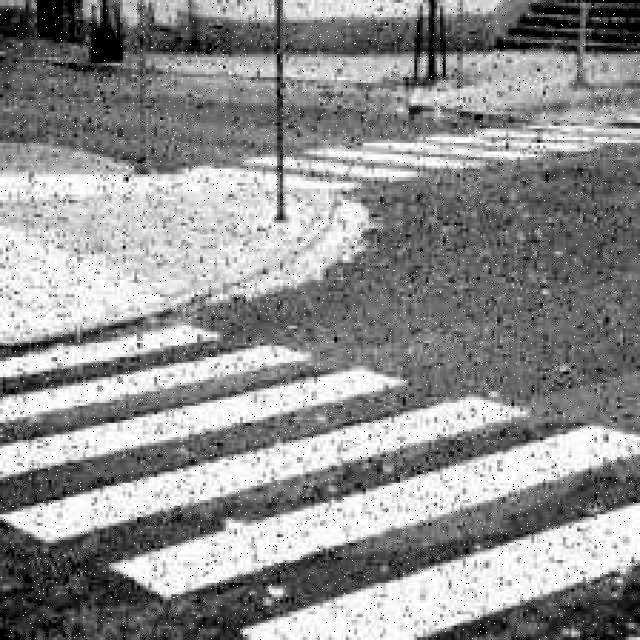crosswalk: (1, 298, 637, 637), (224, 114, 640, 195)
